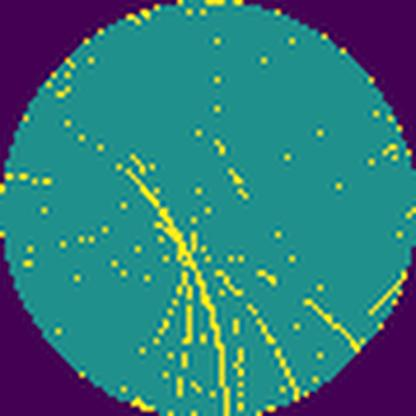Scratch: (119, 161, 232, 416), (243, 302, 304, 400), (301, 296, 362, 356)
